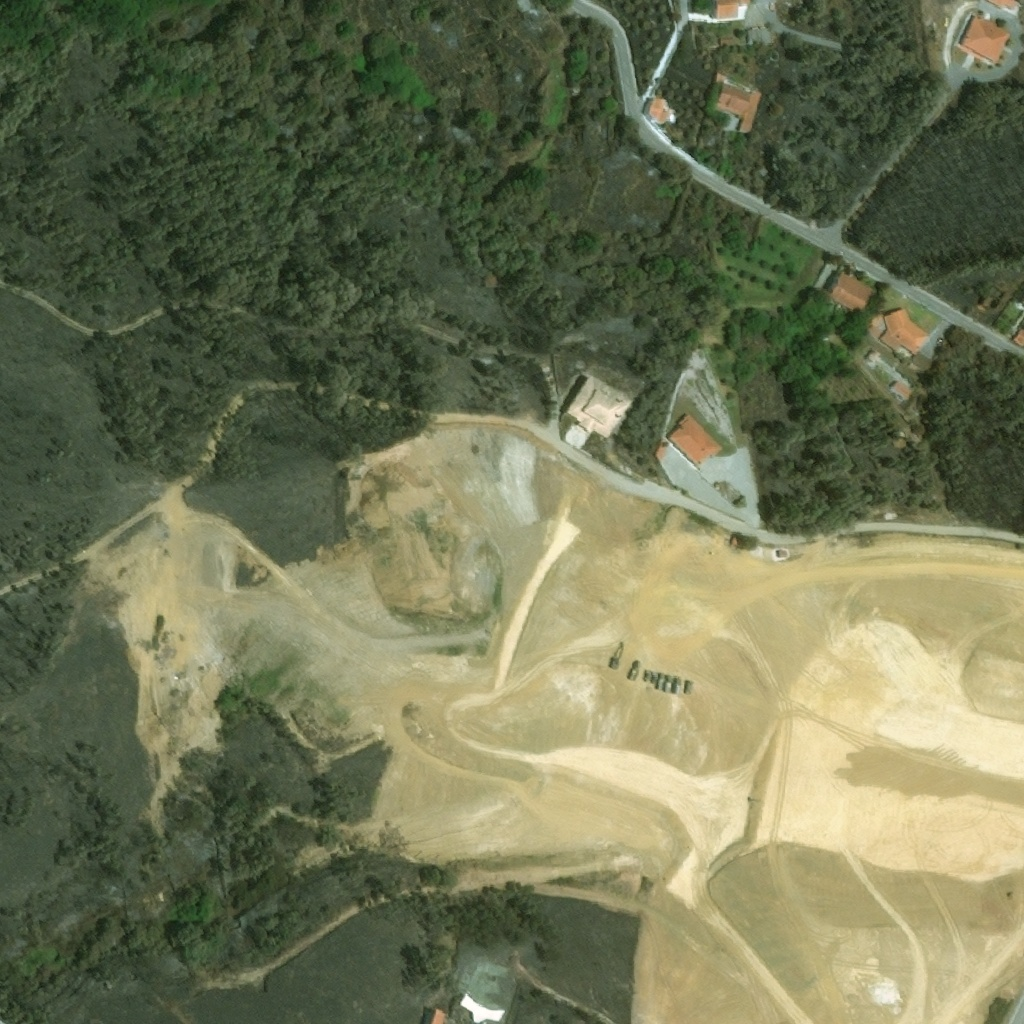0 no-damage: (564, 375, 630, 441), (666, 414, 720, 467), (877, 308, 928, 358), (712, 82, 761, 134), (959, 15, 1011, 64), (826, 270, 873, 313), (460, 993, 506, 1023), (709, 0, 750, 20), (644, 99, 672, 127), (862, 313, 882, 340), (912, 354, 934, 376), (982, 0, 1019, 12), (889, 382, 911, 402), (654, 440, 671, 463), (1010, 328, 1023, 349), (863, 350, 878, 365), (431, 1013, 445, 1023)
